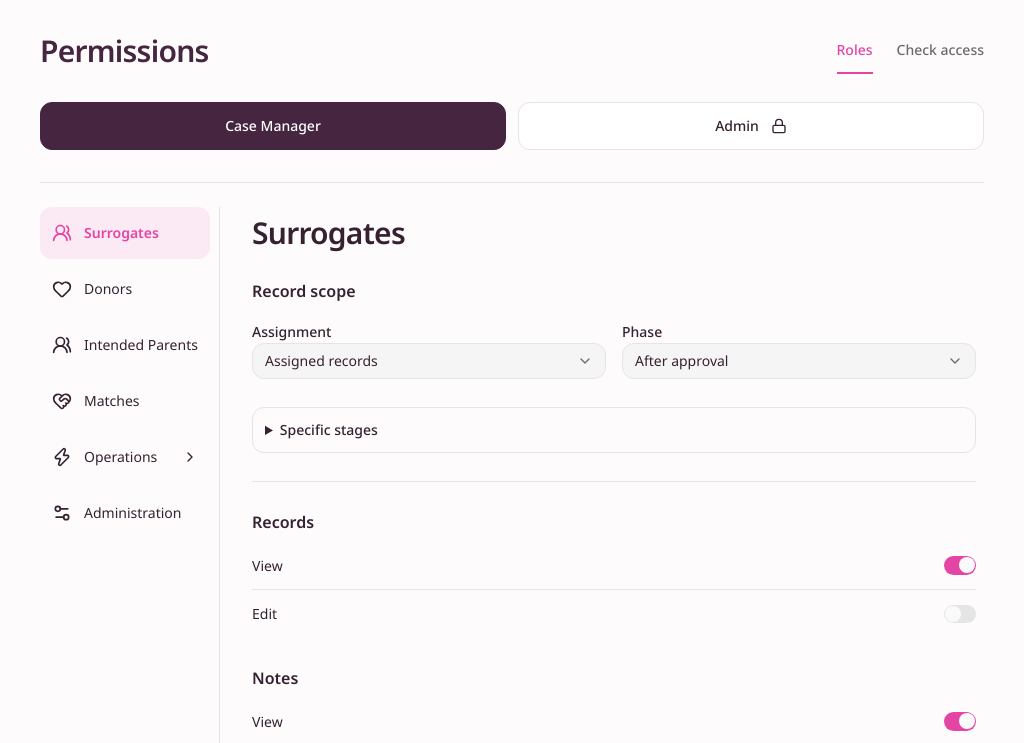
it: permission role workspace › keeps Operations topics collapsed until Operations is selected
This screenshot has width=1024, height=743.
Expected: the button "Workflows" is not shown
Click the button "Operations" at [125, 457], box [40,431,210,483]
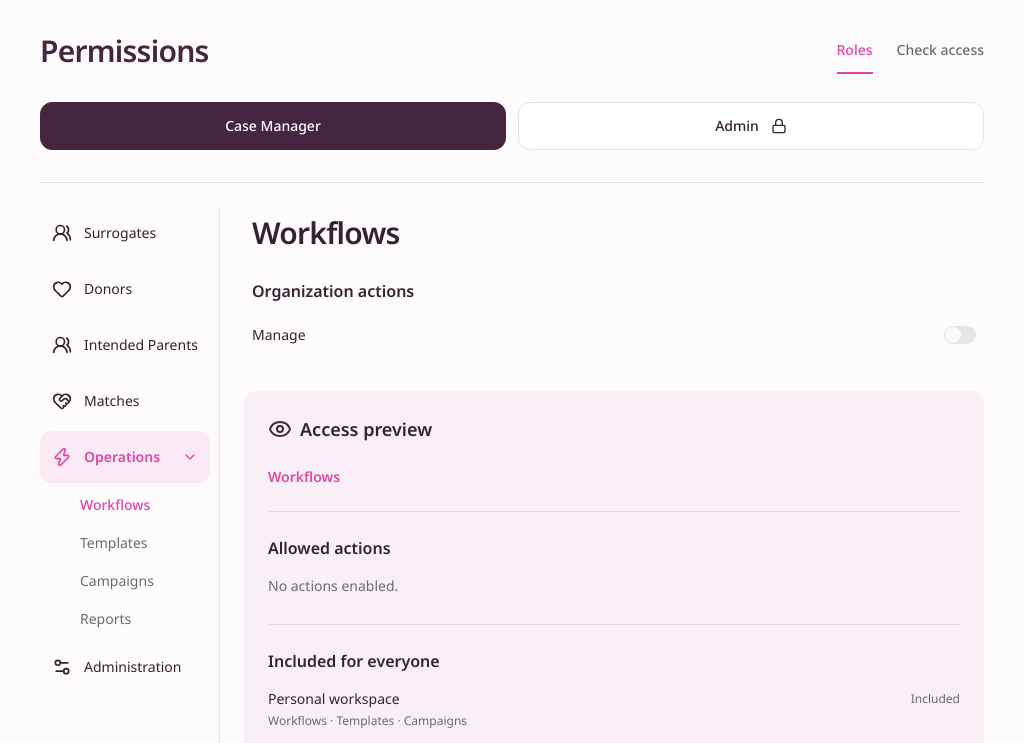
Now the button "Workflows" is shown, box [68,487,210,523]
Click the button "Donors" at [125, 289], box [40,263,210,315]
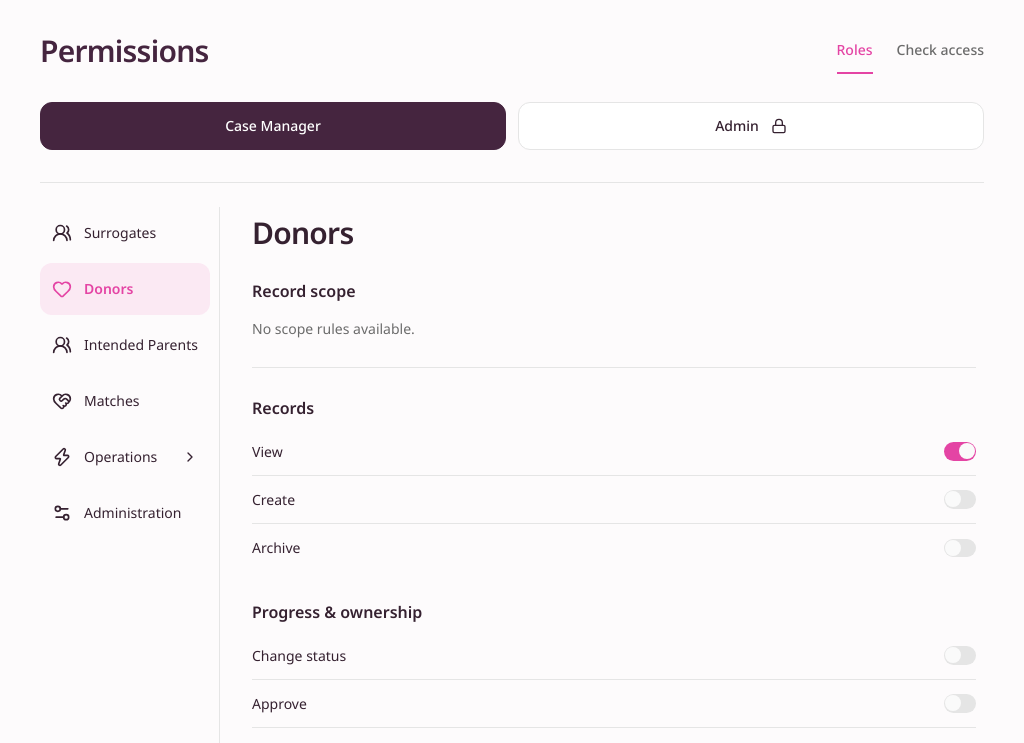
Now the button "Workflows" is gone
